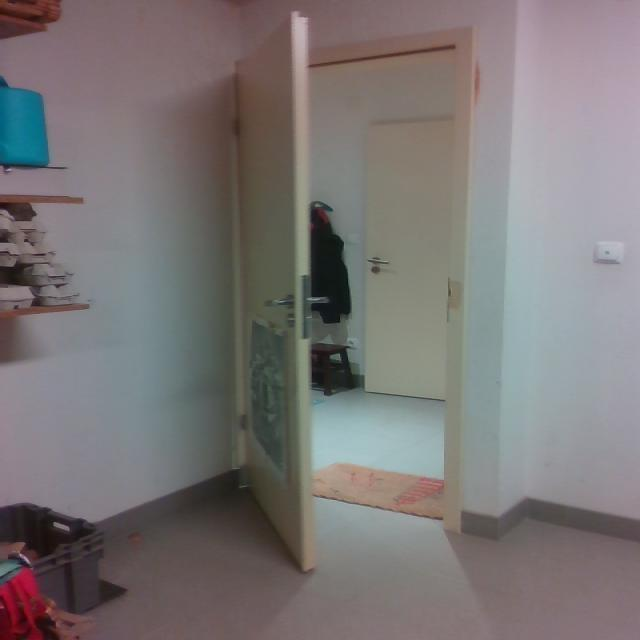door: (232, 11, 323, 574), (362, 116, 451, 400)
